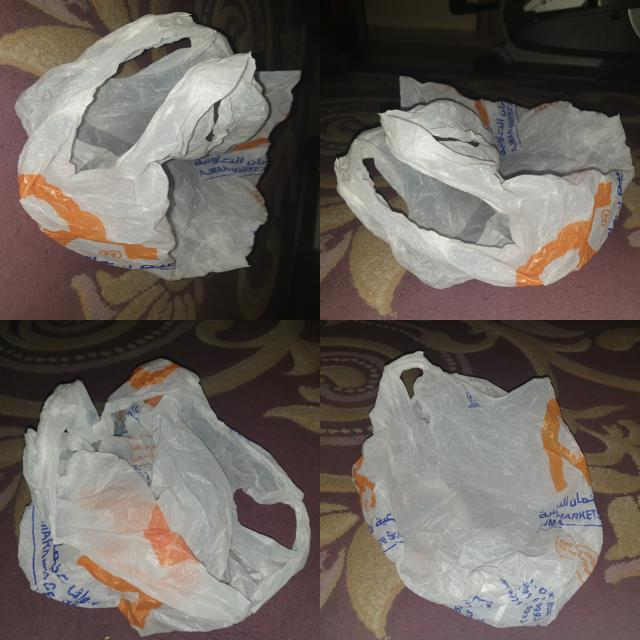Single-layer Plastic: (18, 359, 310, 635), (16, 12, 300, 280), (352, 351, 602, 628), (335, 78, 634, 289)
